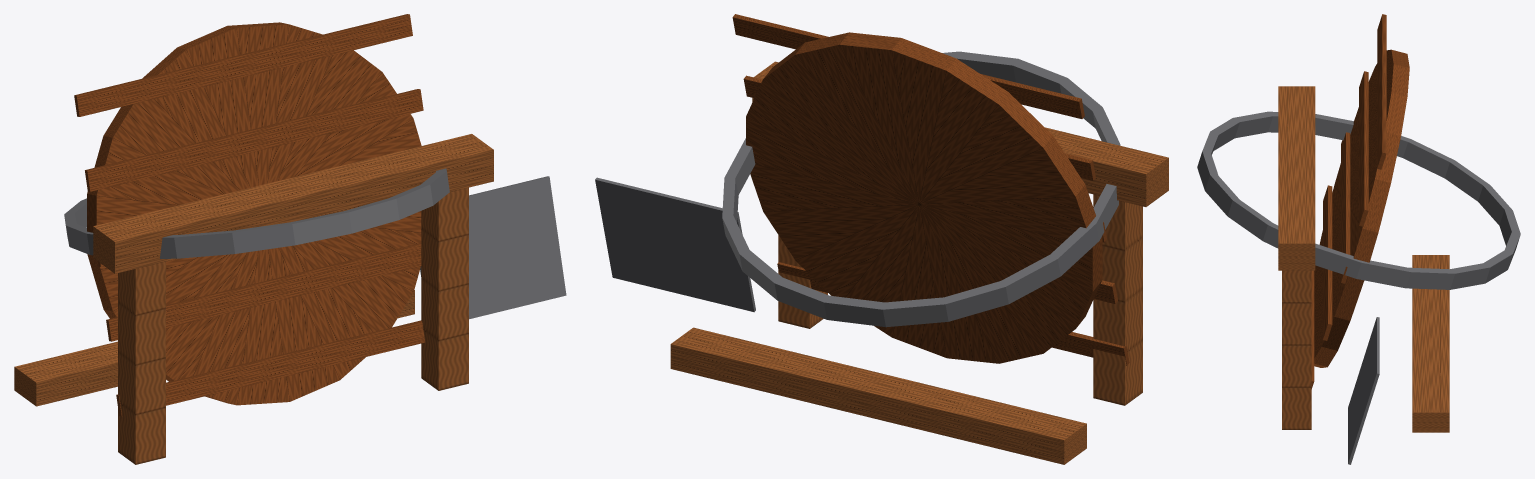
Rendered from distillery-and-bonded-warehouse-cask-end-blank-429dde05__38691.glb.
The picture shows the model from 3 angles, left to right: view 1: azimuth 30°, elevation 25°; view 2: azimuth 150°, elevation 25°; view 3: azimuth 270°, elevation 25°; orthographic projection. The views are drawn at different scales.
Parts seen in each view (by area): view 1: cask-end-blank-oak, cask-end-blank-timber, cask-end-blank-iron; view 2: cask-end-blank-oak, cask-end-blank-timber, cask-end-blank-iron; view 3: cask-end-blank-timber, cask-end-blank-oak, cask-end-blank-iron.
Boxes of the visible parts, <box> form: cask-end-blank-oak: <box>74,14,425,416</box>; cask-end-blank-timber: <box>14,134,493,464</box>; cask-end-blank-iron: <box>64,168,566,319</box>; cask-end-blank-oak: <box>732,14,1129,365</box>; cask-end-blank-timber: <box>670,61,1168,464</box>; cask-end-blank-iron: <box>595,51,1120,327</box>; cask-end-blank-timber: <box>1278,86,1449,432</box>; cask-end-blank-oak: <box>1311,14,1409,388</box>; cask-end-blank-iron: <box>1197,111,1520,464</box>.
Size of the model in its own units: 1.3 by 0.8791 by 0.8691.
3 materials, 2 textured.
